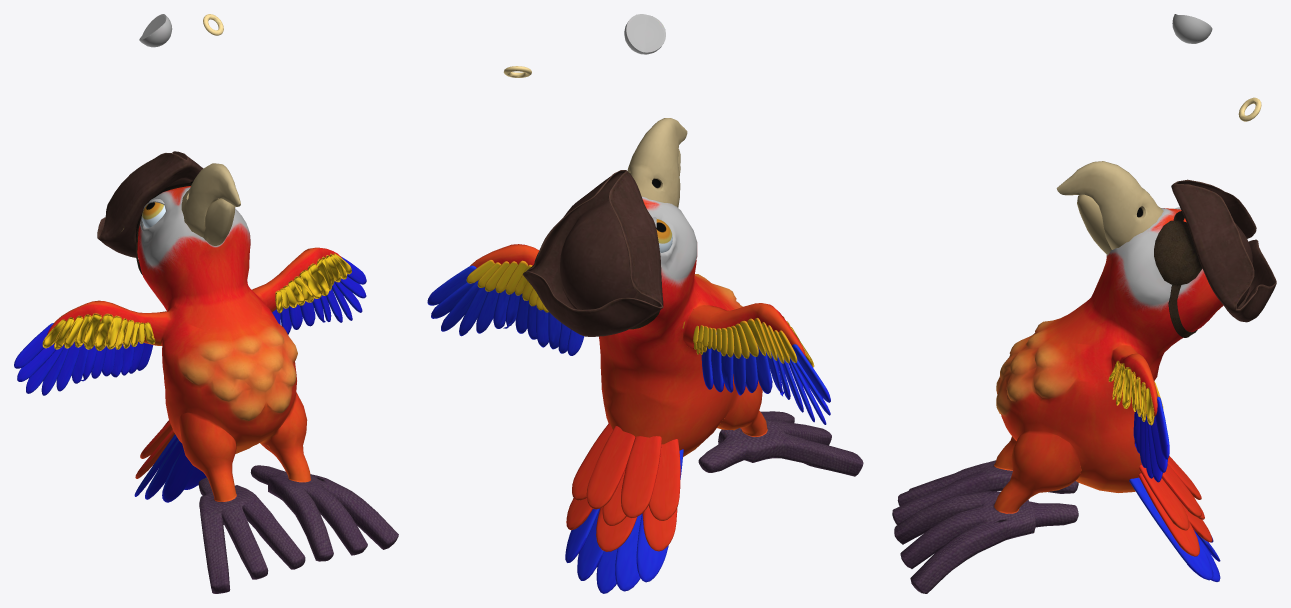
The model's file is parrot.glb.
The picture shows the model from 3 angles, left to right: view 1: azimuth 30°, elevation 25°; view 2: azimuth 150°, elevation 25°; view 3: azimuth 270°, elevation 25°; orthographic projection. The views are drawn at different scales.
Parts seen in each view (by area): view 1: PirateParrot; view 2: PirateParrot; view 3: PirateParrot.
Part boxes in pixels (x1,y1,x2,y2): PirateParrot: (14,14,398,593); PirateParrot: (427,14,863,593); PirateParrot: (892,14,1276,593).
Bounding box in the file's own units: 63.44 × 86.03 × 53.95.
Materials: 2 (2 with a texture image).
